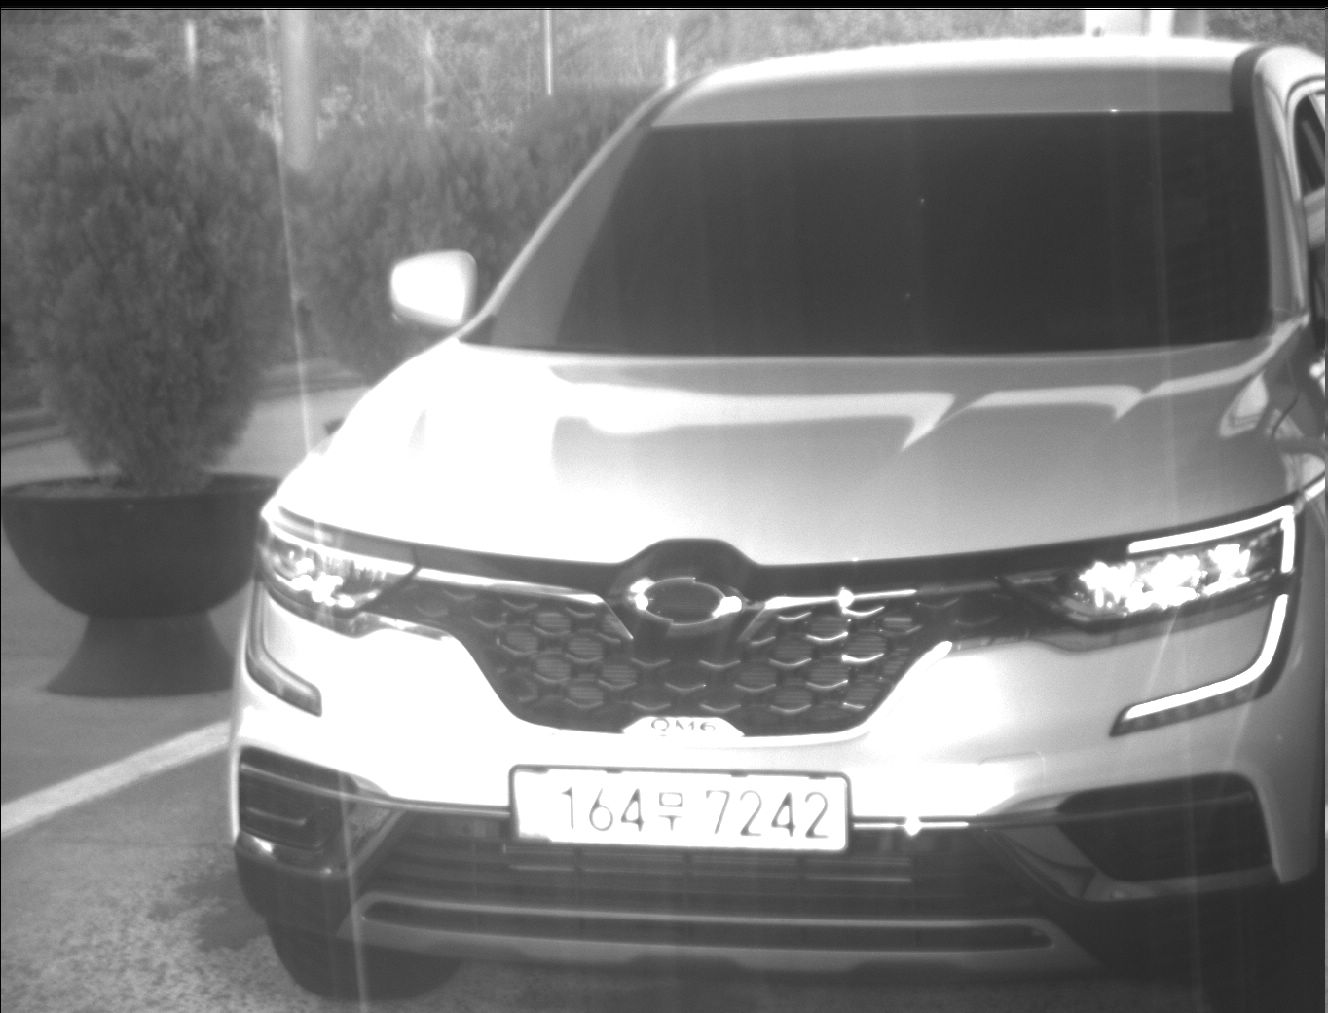car: (217, 27, 1328, 1013)
plate: (509, 762, 854, 855)
